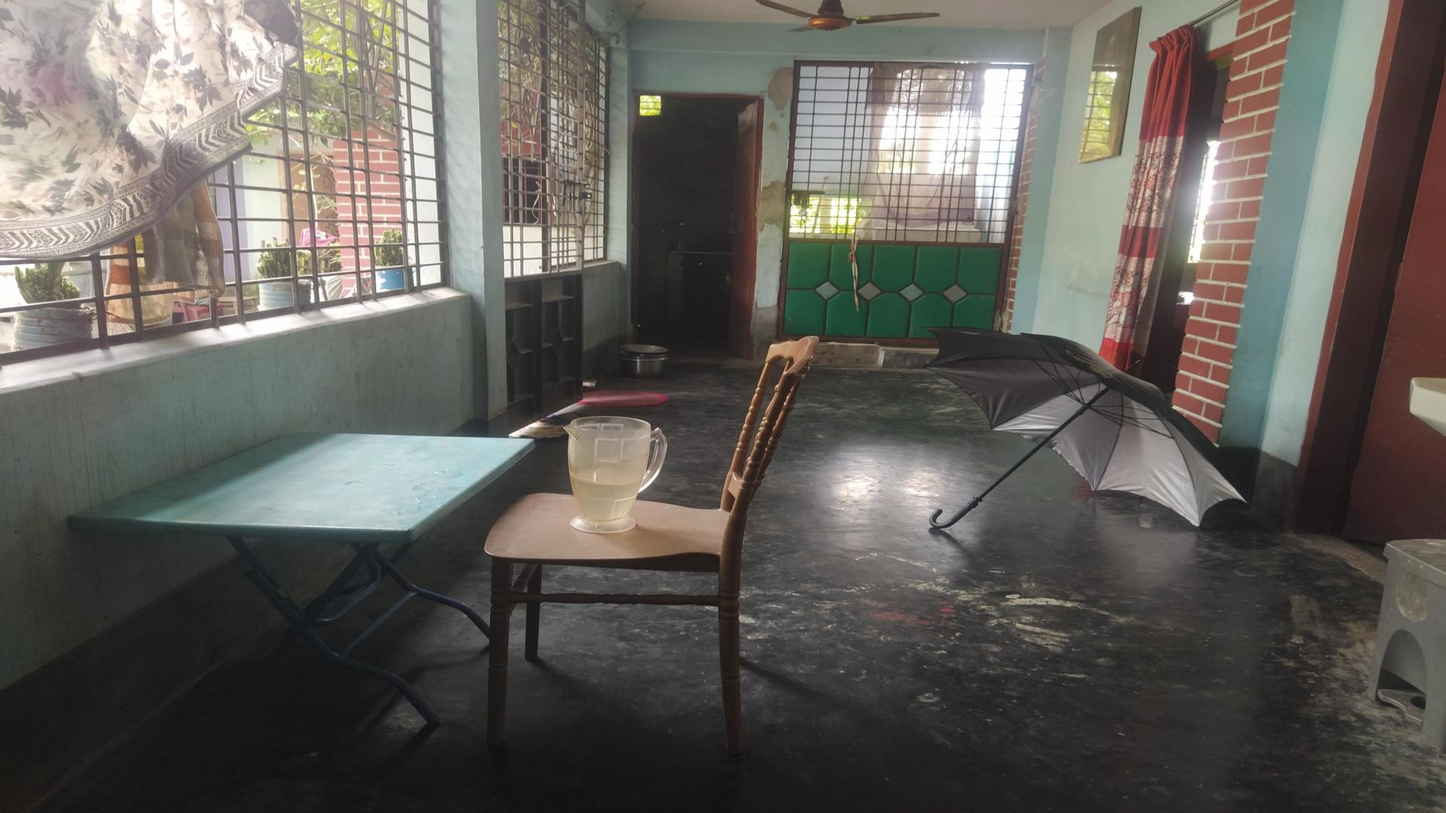Chair: (484, 340, 818, 750)
Door: (791, 59, 1008, 352), (632, 87, 759, 361)
Jug: (571, 418, 653, 528)
Table: (43, 422, 535, 723)
Umbrella: (926, 322, 1246, 530)
